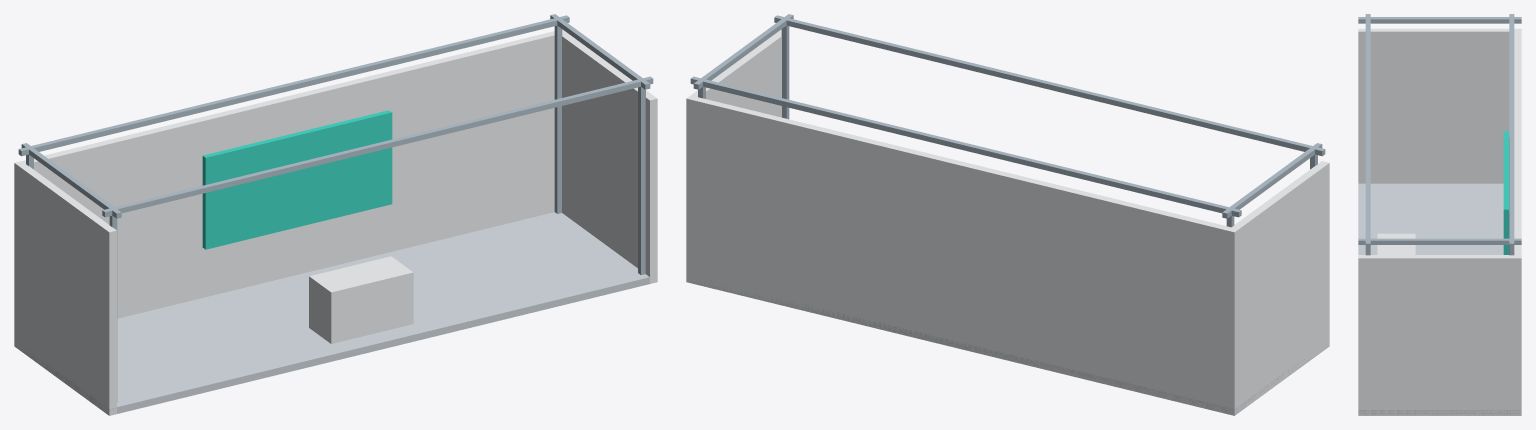
3 renders of one model, left to right at view 1: azimuth 30°, elevation 25°; view 2: azimuth 150°, elevation 25°; view 3: azimuth 270°, elevation 25°, orthographic. The views are drawn at different scales.
Visible parts, largest first — view 1: Exhibition Booth Concept; view 2: Exhibition Booth Concept; view 3: Exhibition Booth Concept.
Boxes of the visible parts, bbox=[...] form: Exhibition Booth Concept: bbox=[14, 14, 657, 415]; Exhibition Booth Concept: bbox=[686, 14, 1329, 415]; Exhibition Booth Concept: bbox=[1358, 14, 1521, 415].
Size of the model in its own units: 10 by 3.49 by 3.
